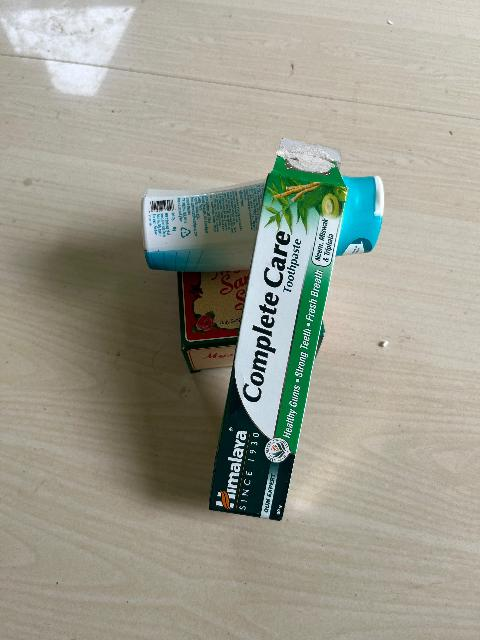boroplus: (139, 188, 251, 273)
himalaya toothpaste: (220, 146, 348, 518)
mysore sandal soap: (179, 281, 232, 373)
